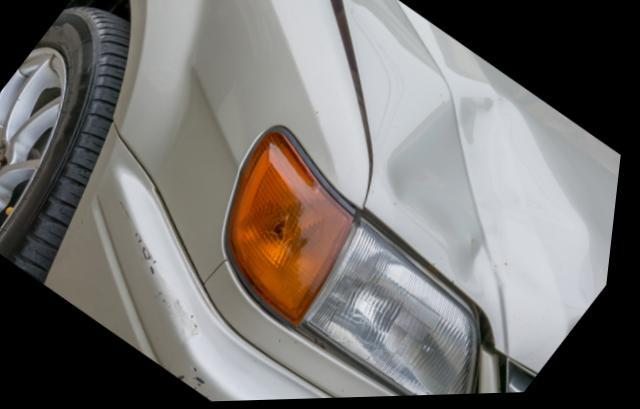dent: (382, 97, 611, 376)
lamp broken: (231, 132, 361, 331)
scratch: (136, 218, 227, 403)
